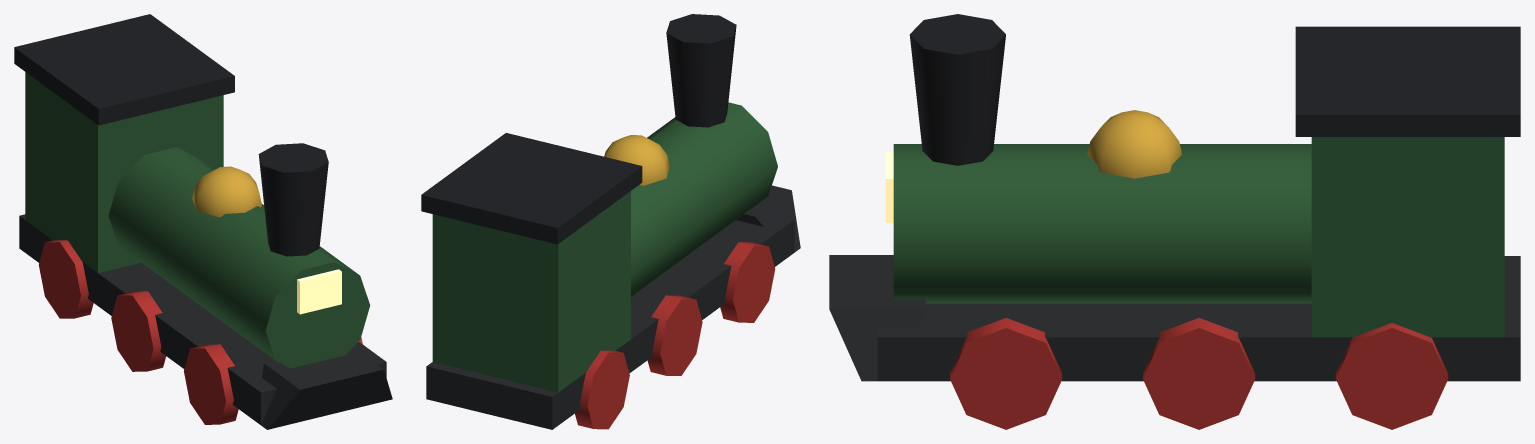
The model's file is vehicle_steam_loco.glb.
The picture shows the model from 3 angles, left to right: view 1: azimuth 30°, elevation 25°; view 2: azimuth 150°, elevation 25°; view 3: azimuth 270°, elevation 25°; orthographic projection. The views are drawn at different scales.
Visible parts, largest first — view 1: vehicle_steam_loco; view 2: vehicle_steam_loco; view 3: vehicle_steam_loco.
Boxes of the visible parts, <box> form: vehicle_steam_loco: <box>14,14,392,429</box>; vehicle_steam_loco: <box>421,14,800,429</box>; vehicle_steam_loco: <box>829,14,1520,429</box>.
Bounding box in the file's own units: 0.135 × 0.24 × 0.43.
